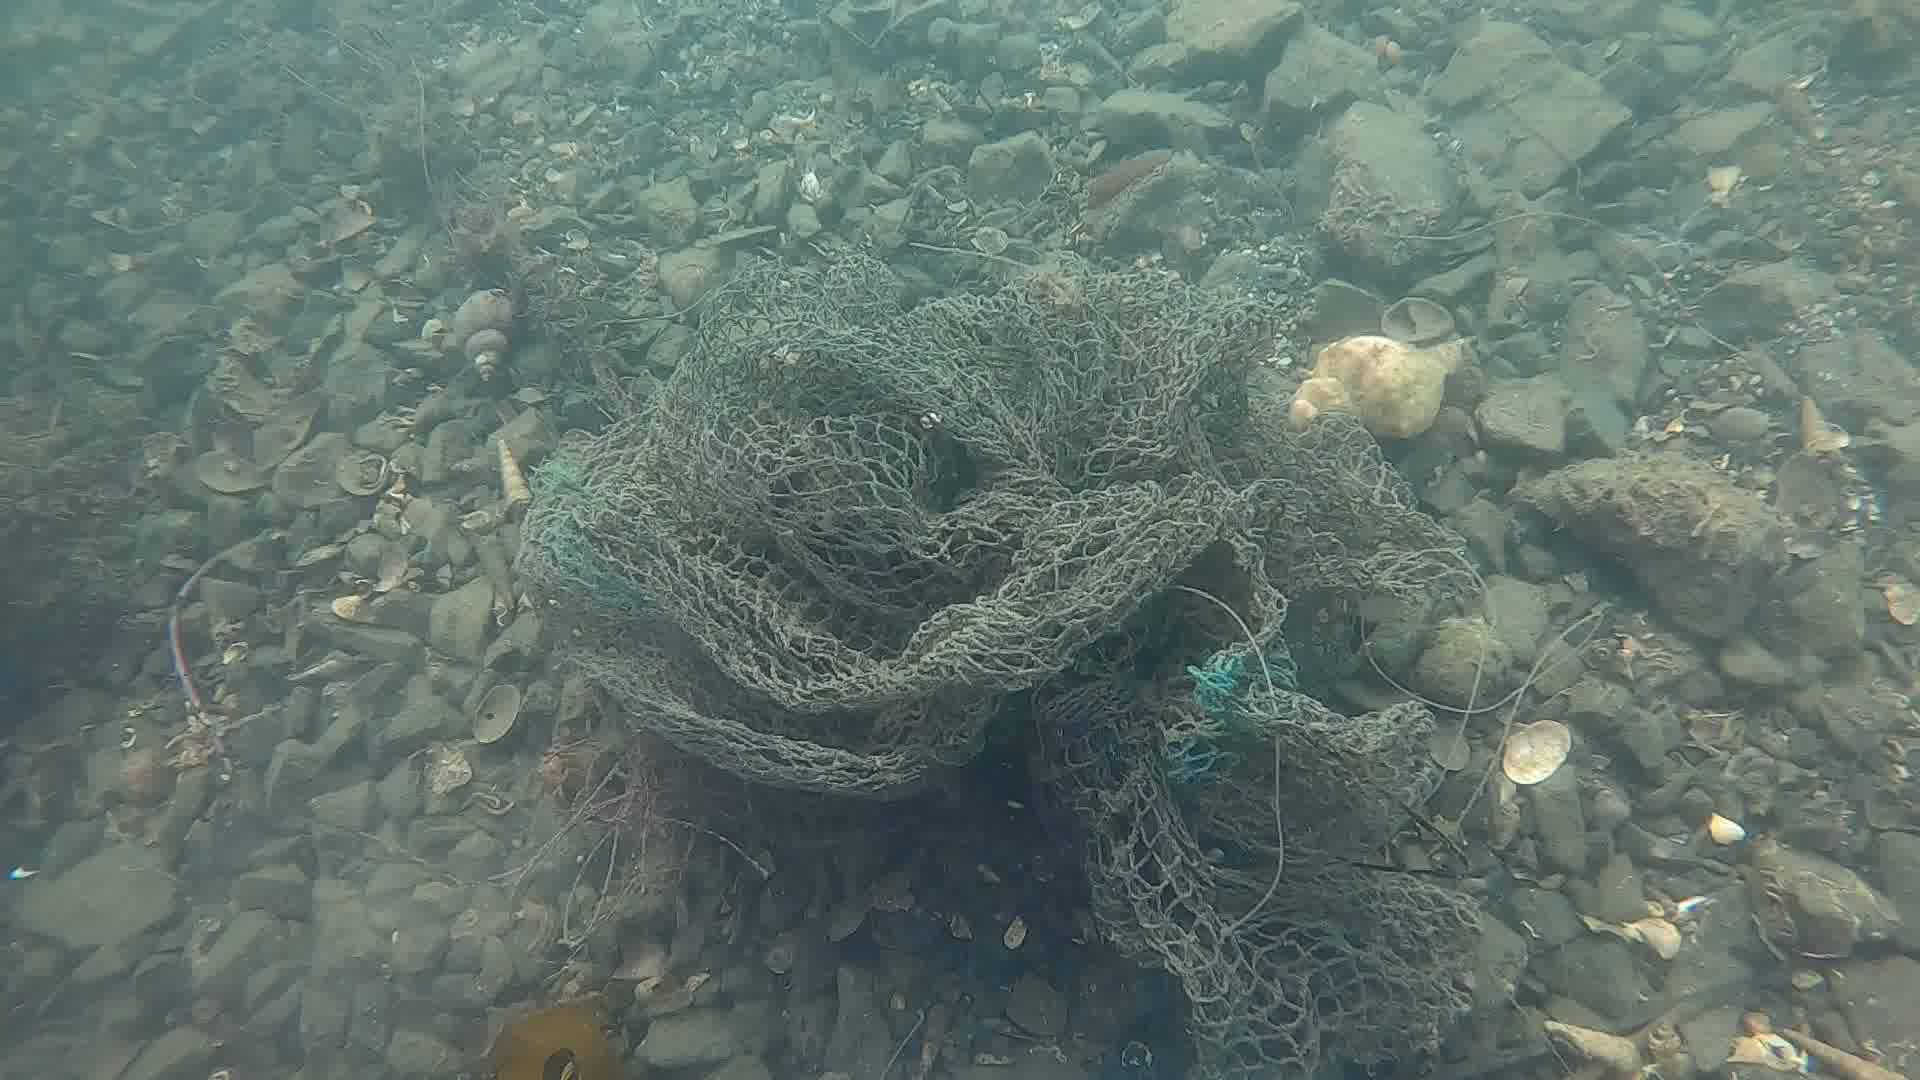fish net: (513, 251, 1433, 1065)
